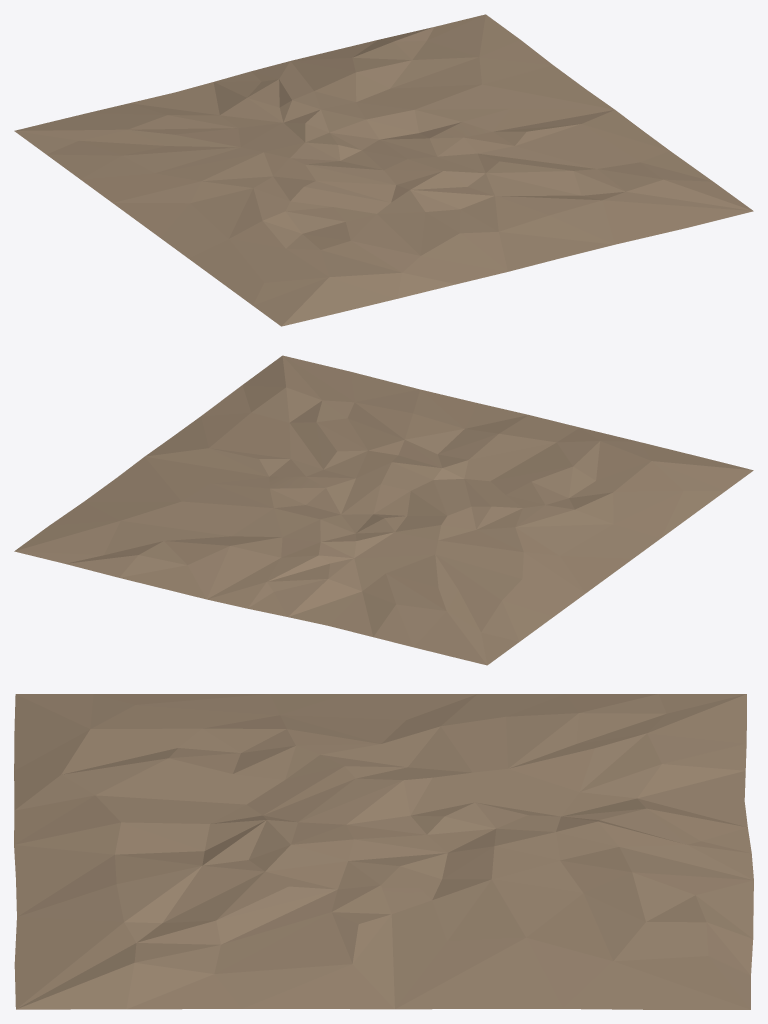
Rendered from SM_Env_Ground_Square_02.fbx.
The picture shows the model from 3 angles, top to bottom: view 1: azimuth 30°, elevation 25°; view 2: azimuth 150°, elevation 25°; view 3: azimuth 270°, elevation 25°; orthographic projection. The views are drawn at different scales.
Parts seen in each view (by area): view 1: SM_Env_Ground_Square_02; view 2: SM_Env_Ground_Square_02; view 3: SM_Env_Ground_Square_02.
Boxes of the visible parts, bbox=[...] form: SM_Env_Ground_Square_02: bbox=[14, 14, 753, 326]; SM_Env_Ground_Square_02: bbox=[14, 355, 753, 665]; SM_Env_Ground_Square_02: bbox=[14, 694, 753, 1009].
Bounding box in the file's own units: 2087 × 75.27 × 2066.
